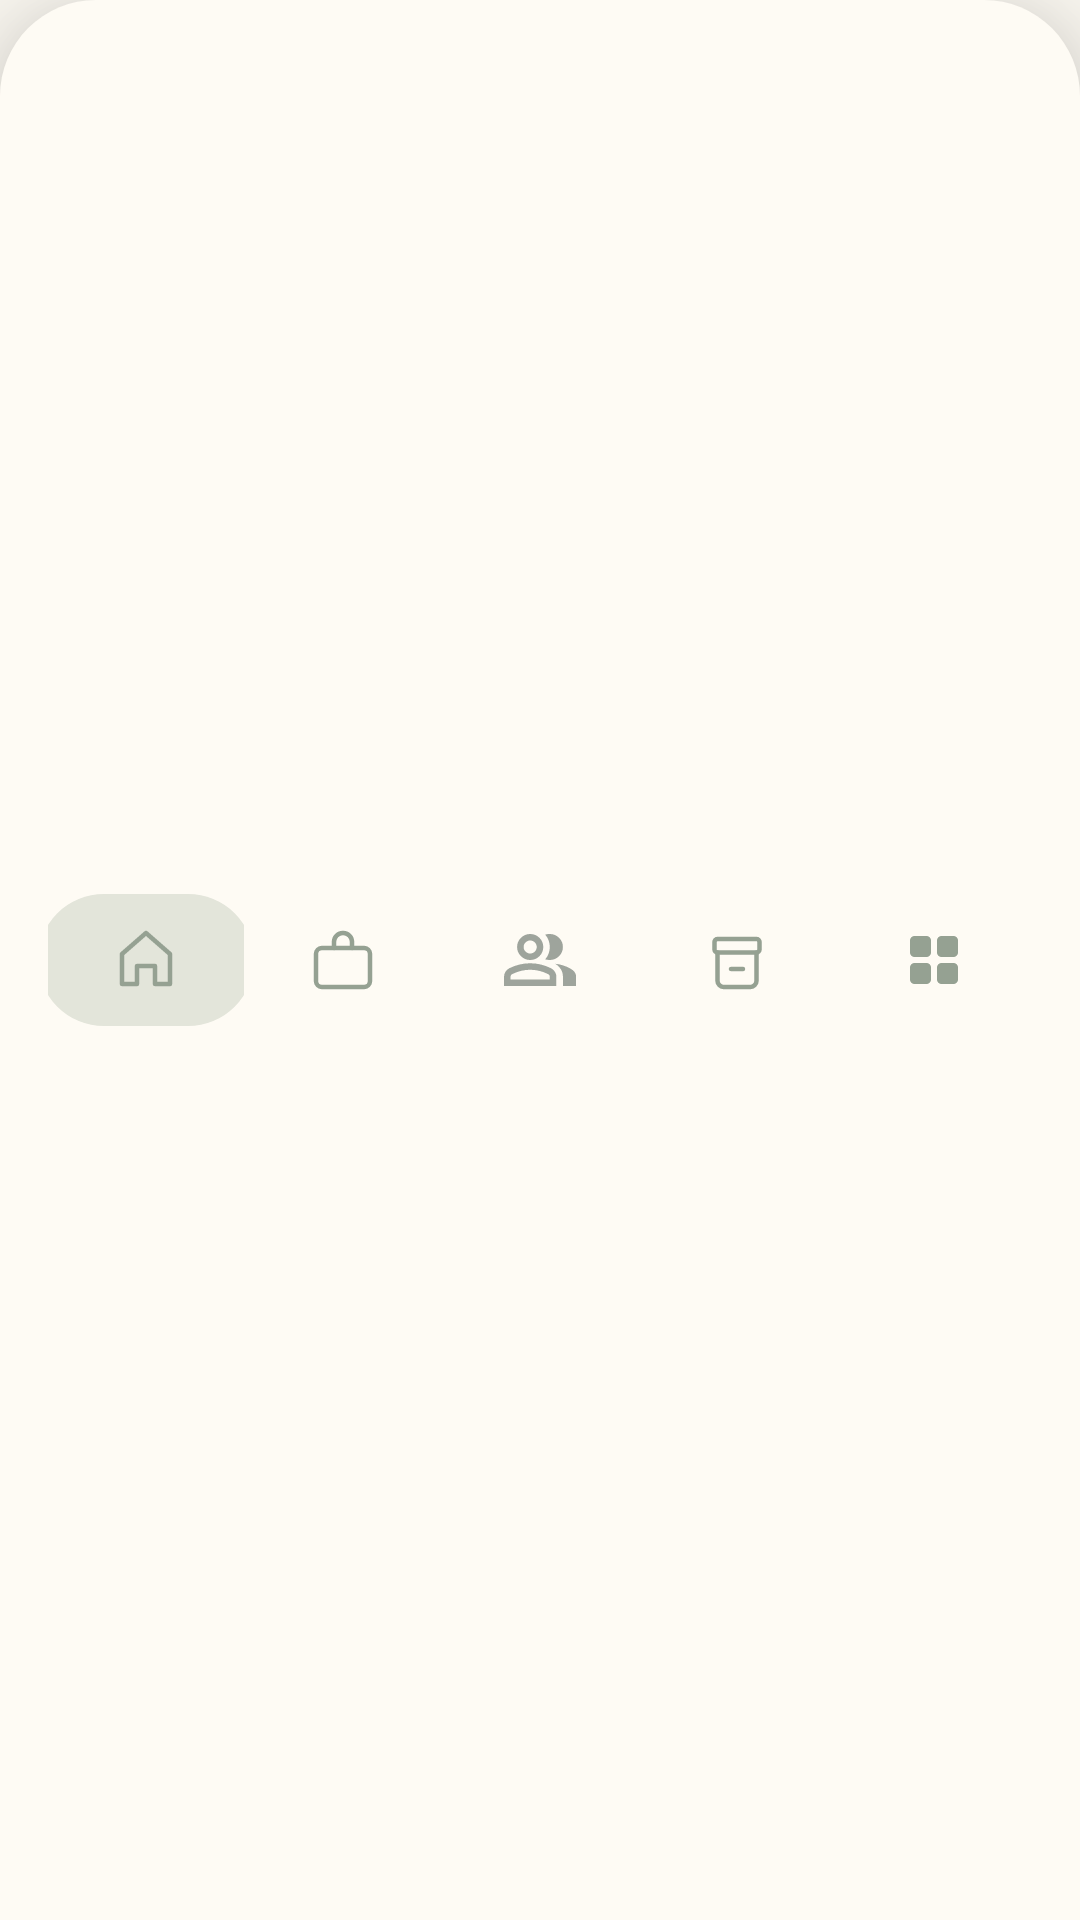

Point at icon controls on the screen. Image size 1080x1920, points as (x=x, y=y).
Khác: (x=934, y=960)
Khách hàng: (x=540, y=960)
Trang chủ: (x=146, y=958)
